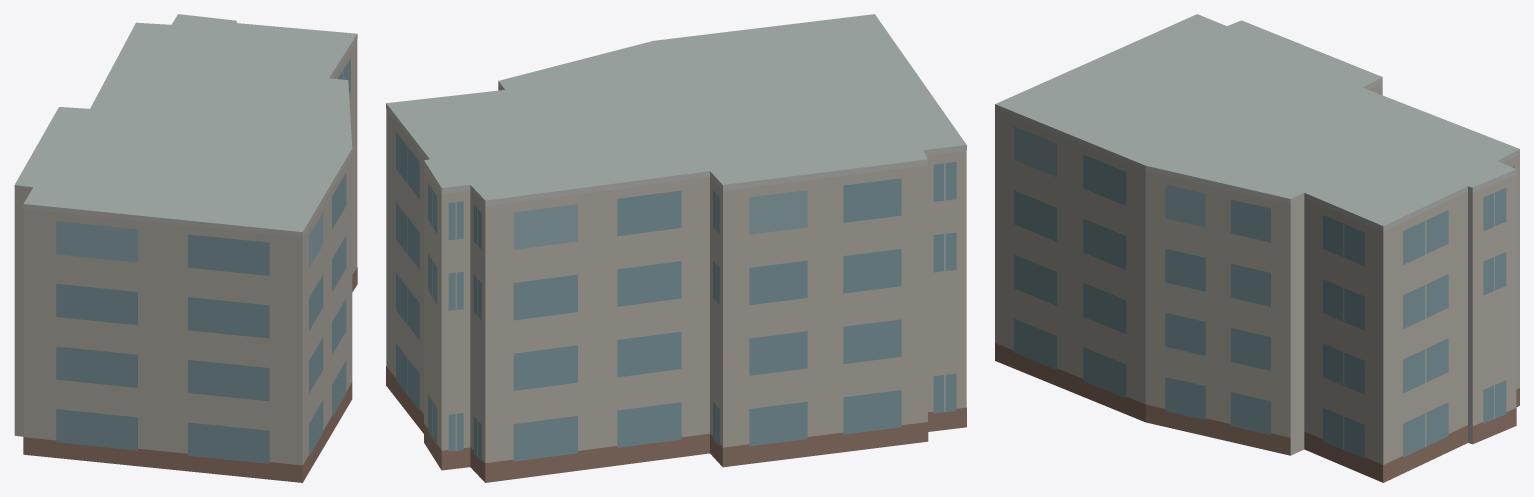
The model's file is survey-upis-32726600.glb.
3 views of the same model, side by side, from view 1: azimuth 30°, elevation 25°; view 2: azimuth 150°, elevation 25°; view 3: azimuth 270°, elevation 25° (orthographic). The views are drawn at different scales.
Parts seen in each view (by area): view 1: survey-upis-32726600.tmp; view 2: survey-upis-32726600.tmp; view 3: survey-upis-32726600.tmp.
Part boxes in pixels (left/top/right/bottom): survey-upis-32726600.tmp: left=14, top=14, right=357, bottom=482; survey-upis-32726600.tmp: left=386, top=14, right=966, bottom=482; survey-upis-32726600.tmp: left=995, top=14, right=1519, bottom=482.
Bounding box in the file's own units: 21.29 × 12 × 22.24.
